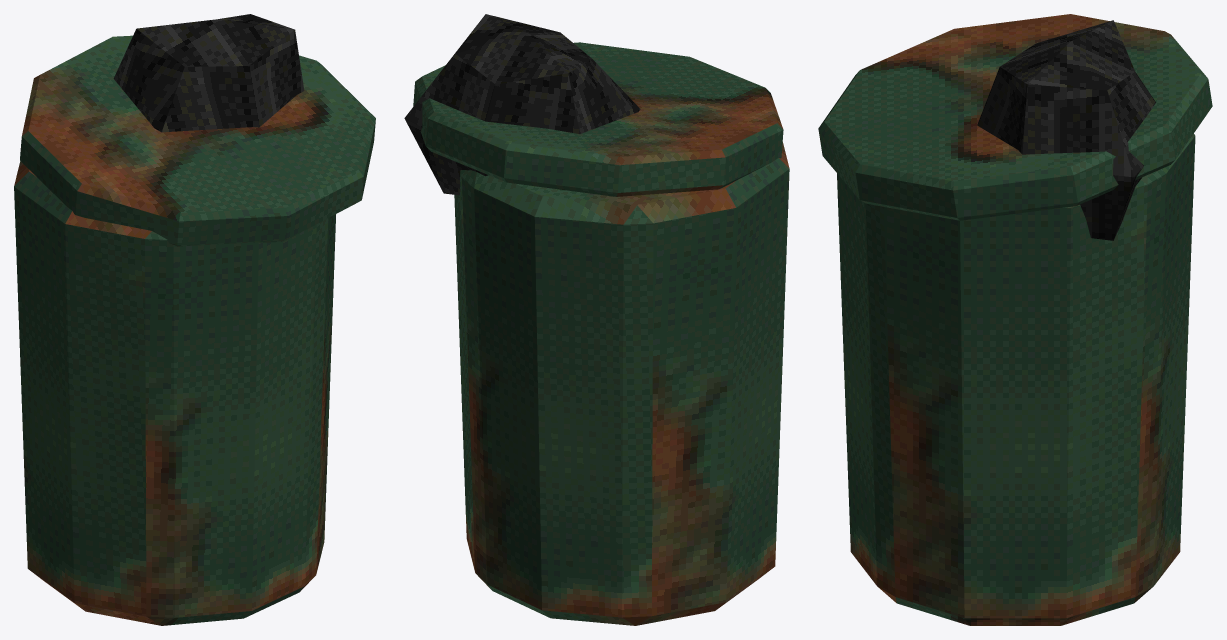
Rendered from ext_trash_can.glb.
The picture shows the model from 3 angles, left to right: view 1: azimuth 30°, elevation 25°; view 2: azimuth 150°, elevation 25°; view 3: azimuth 270°, elevation 25°; orthographic projection. The views are drawn at different scales.
Visible parts, largest first — view 1: ext_trash_can_mesh; view 2: ext_trash_can_mesh; view 3: ext_trash_can_mesh.
Boxes of the visible parts, x1,y1,x2,y2 form: ext_trash_can_mesh: (14, 14, 375, 625); ext_trash_can_mesh: (404, 14, 789, 625); ext_trash_can_mesh: (818, 14, 1212, 625).
Size of what is drawn, in the model's own units: 0.7053 by 1.13 by 0.7208.
2 materials, 2 textured.
